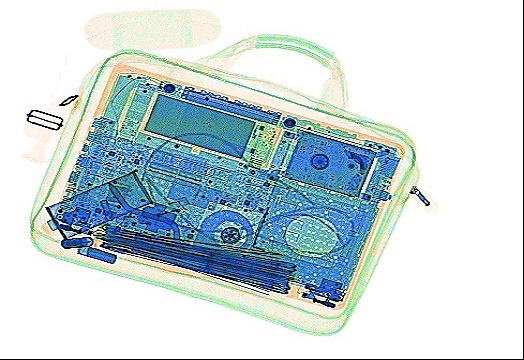zippooil: (43, 170, 154, 240)
